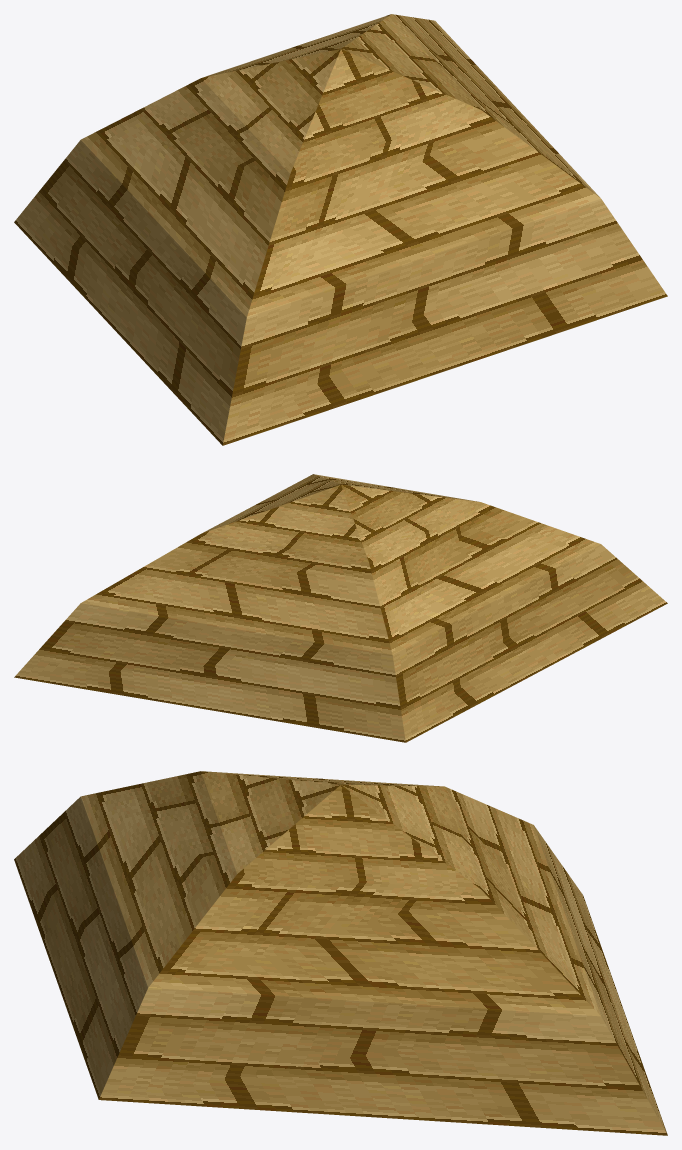
The model's file is telhado_09_estabulo.glb.
The picture shows the model from 3 angles, top to bottom: view 1: azimuth 30°, elevation 25°; view 2: azimuth 150°, elevation 25°; view 3: azimuth 270°, elevation 25°; orthographic projection. The views are drawn at different scales.
Parts seen in each view (by area): view 1: telhado_09_estabulo; view 2: telhado_09_estabulo; view 3: telhado_09_estabulo.
Part boxes in pixels (left/top/right/bottom): telhado_09_estabulo: left=14, top=14, right=667, bottom=445; telhado_09_estabulo: left=14, top=474, right=667, bottom=742; telhado_09_estabulo: left=14, top=771, right=667, bottom=1135.
Bounding box in the file's own units: 4.68 × 1.68 × 4.68.
Materials: 1 (1 with a texture image).
